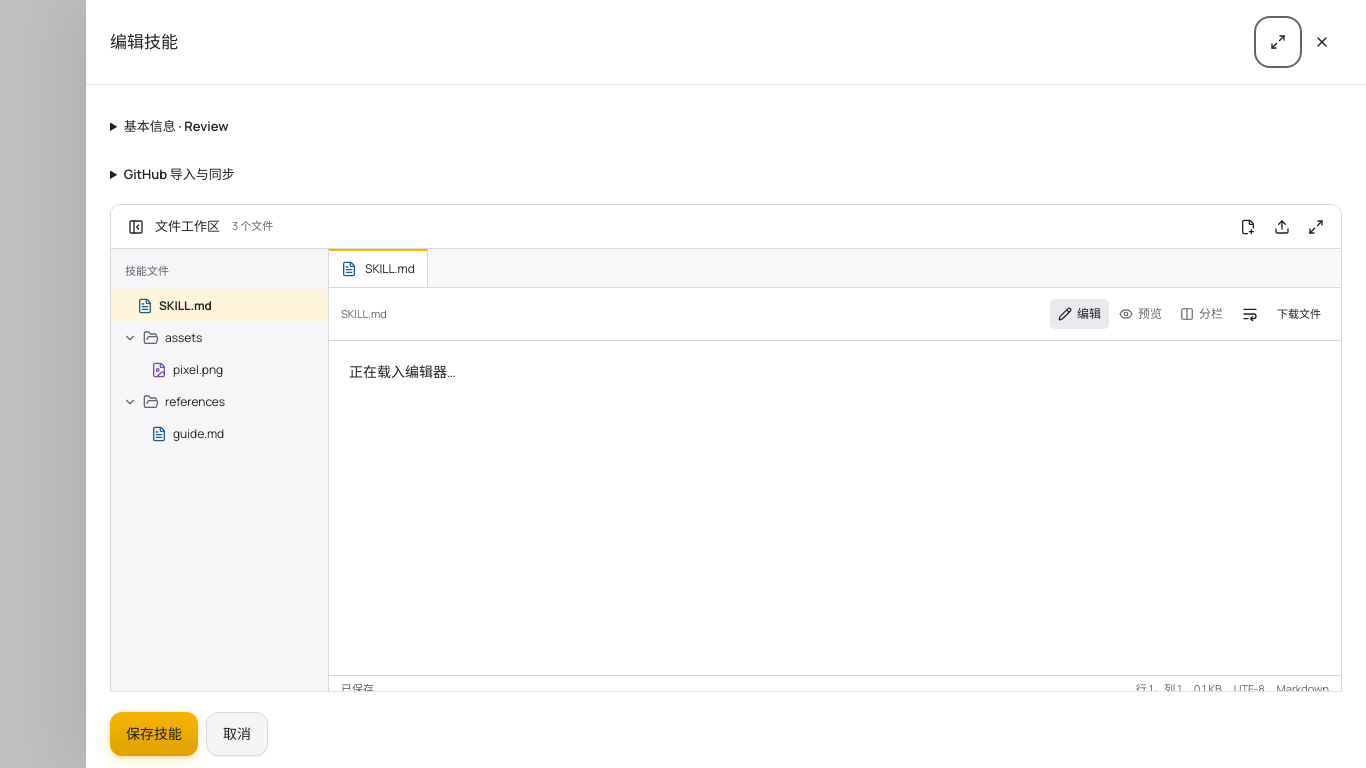
Test: renders split-view drafts and downloads the current text after loading published attachments
The width and height of the screenshot is (1366, 768).
Click the button "分栏": (1202, 314) [1172, 299, 1231, 329]
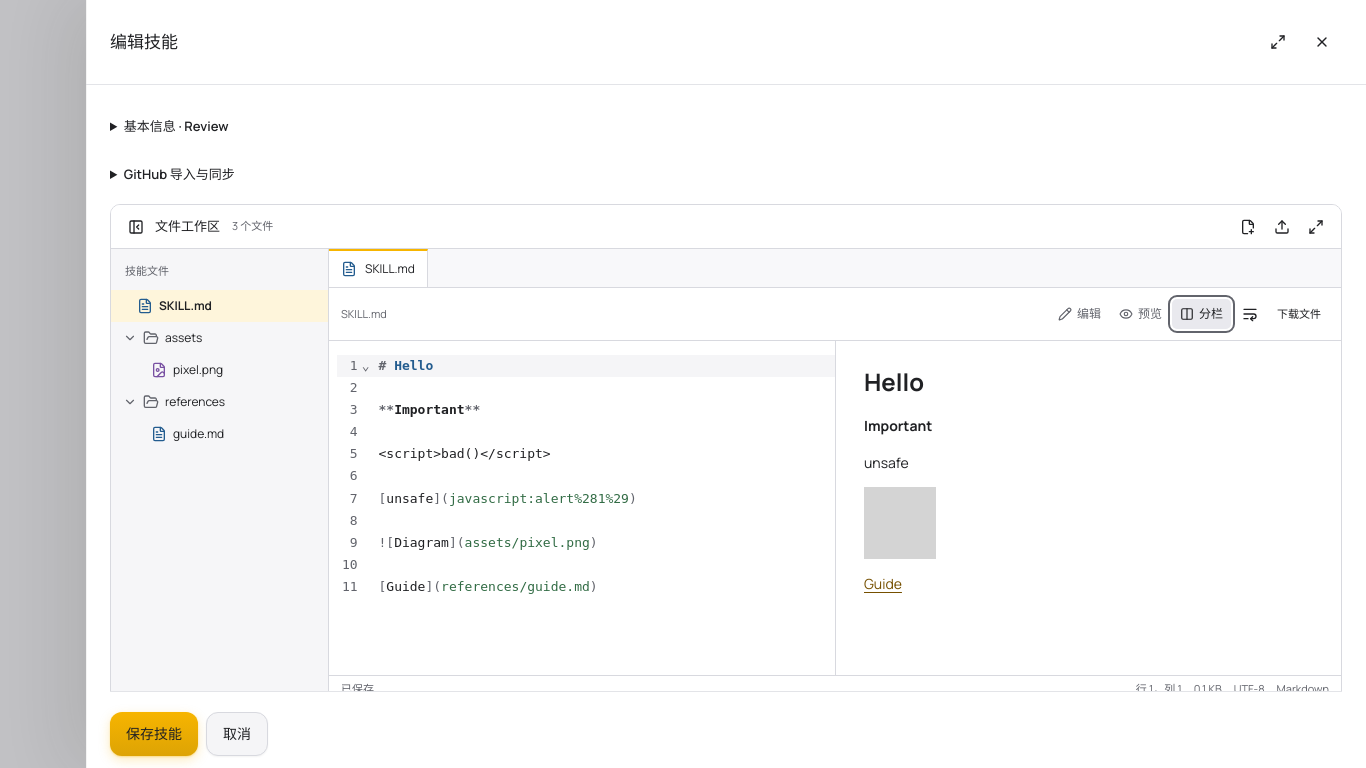
Click the field named "SKILL.md 内容": (603, 508) [370, 341, 835, 675]
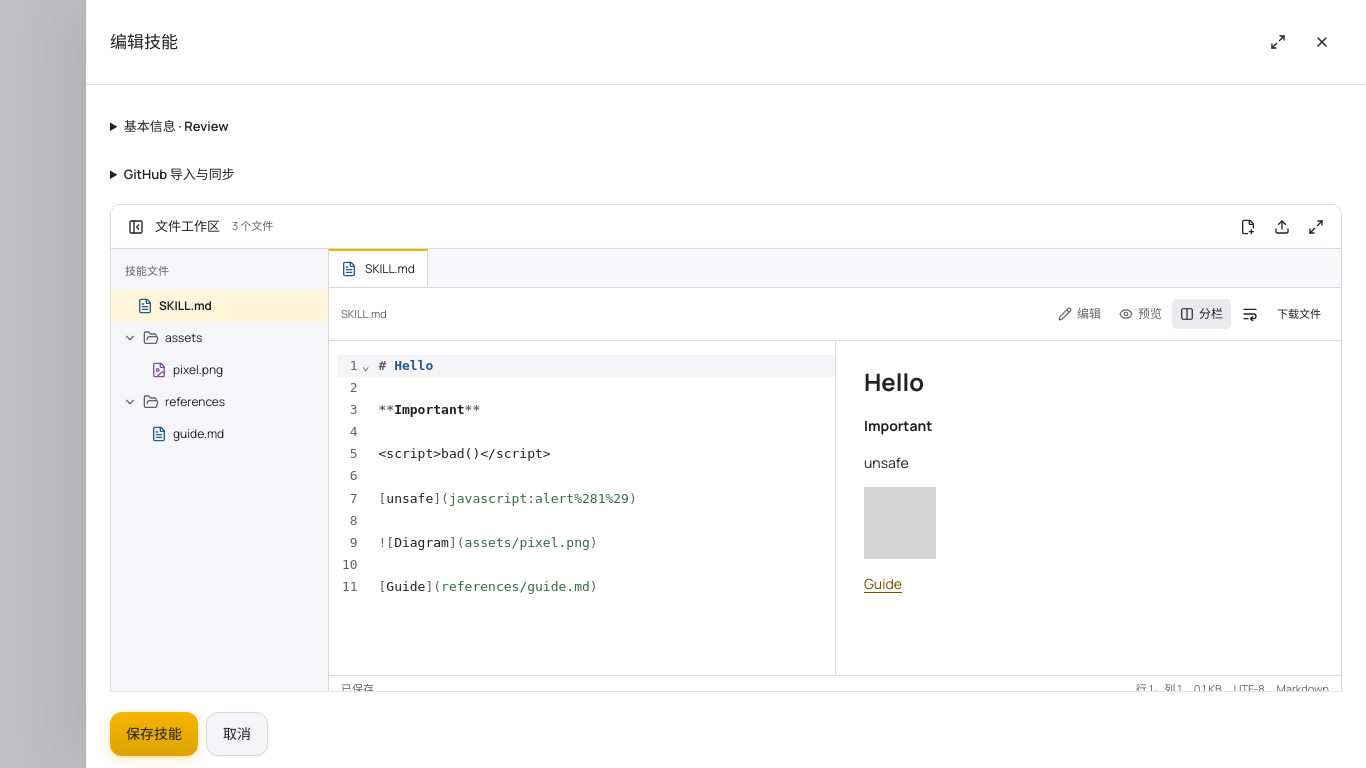
Type keys "{Control>}a{/Control}"
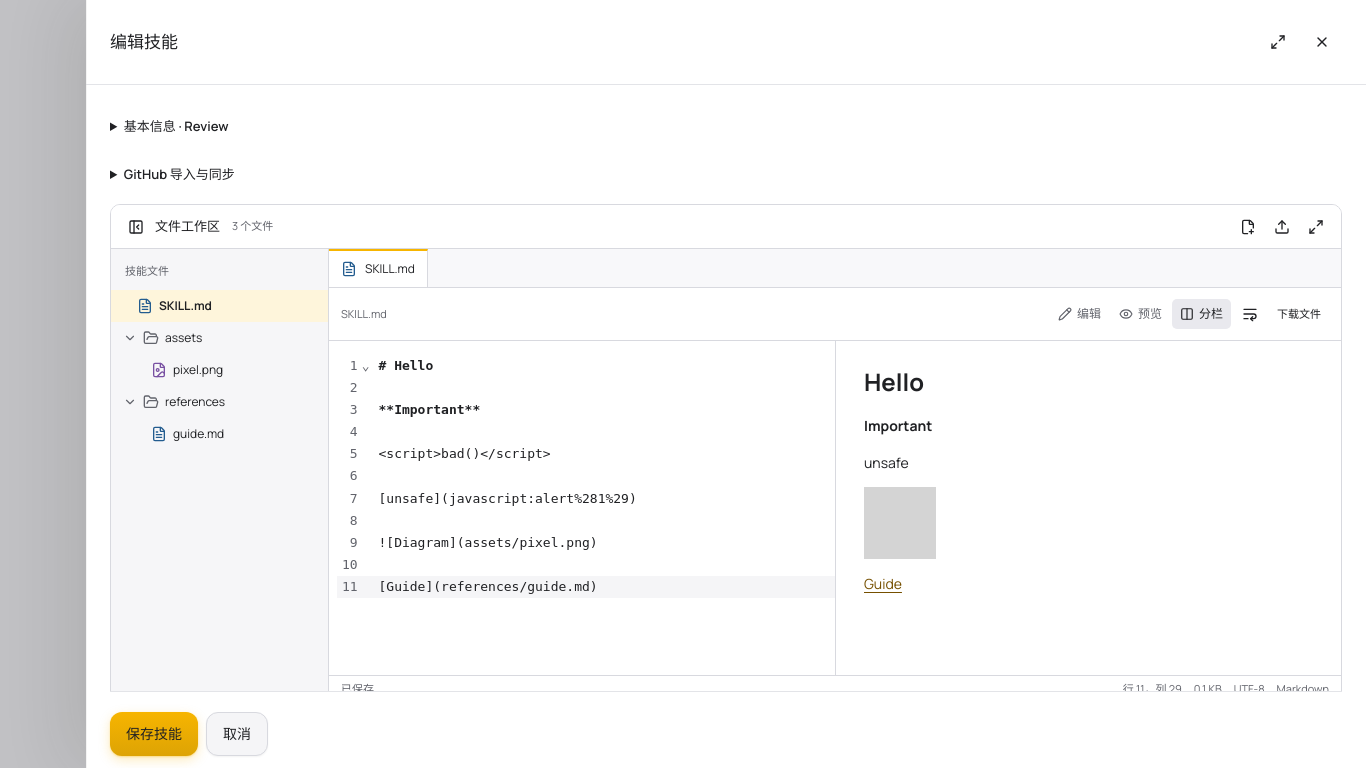
Type keys "# Updated"
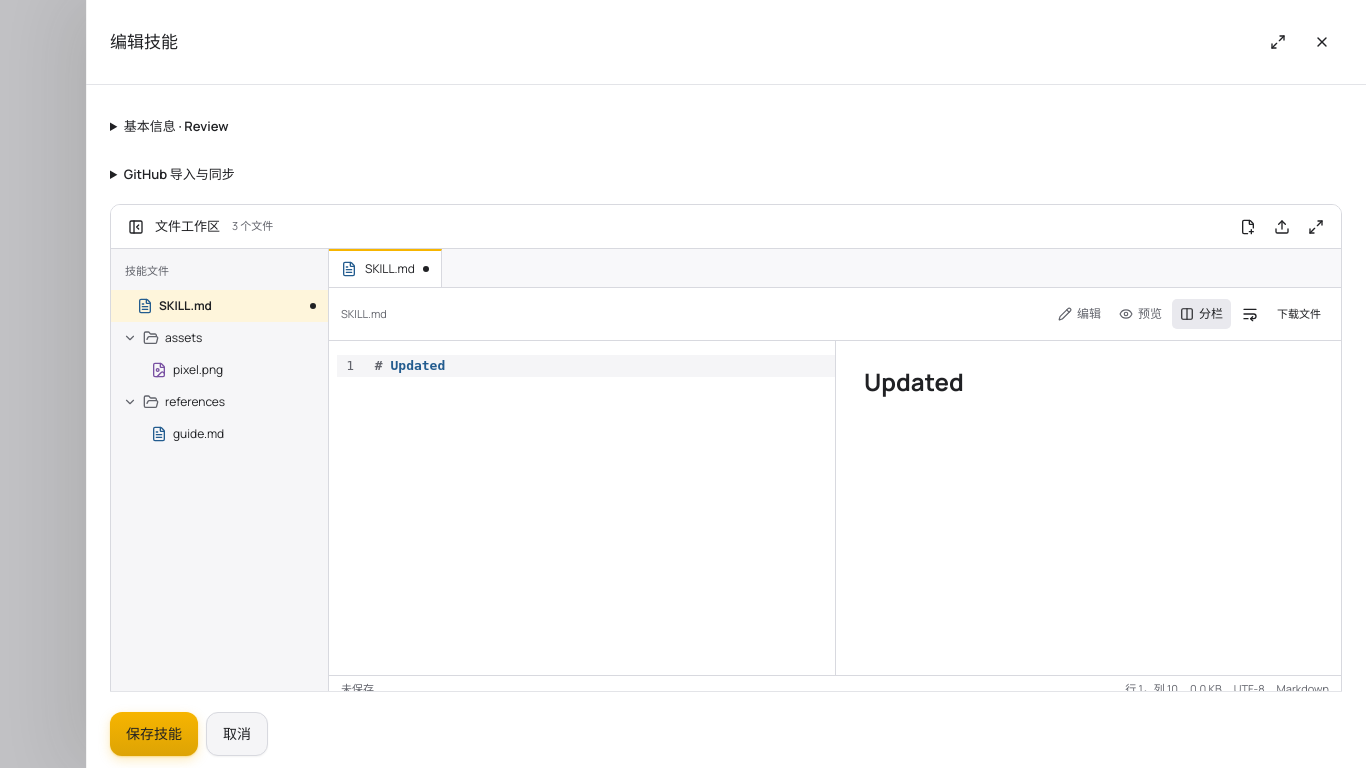
Check: the heading "Updated" is shown, box [864, 365, 964, 398]
